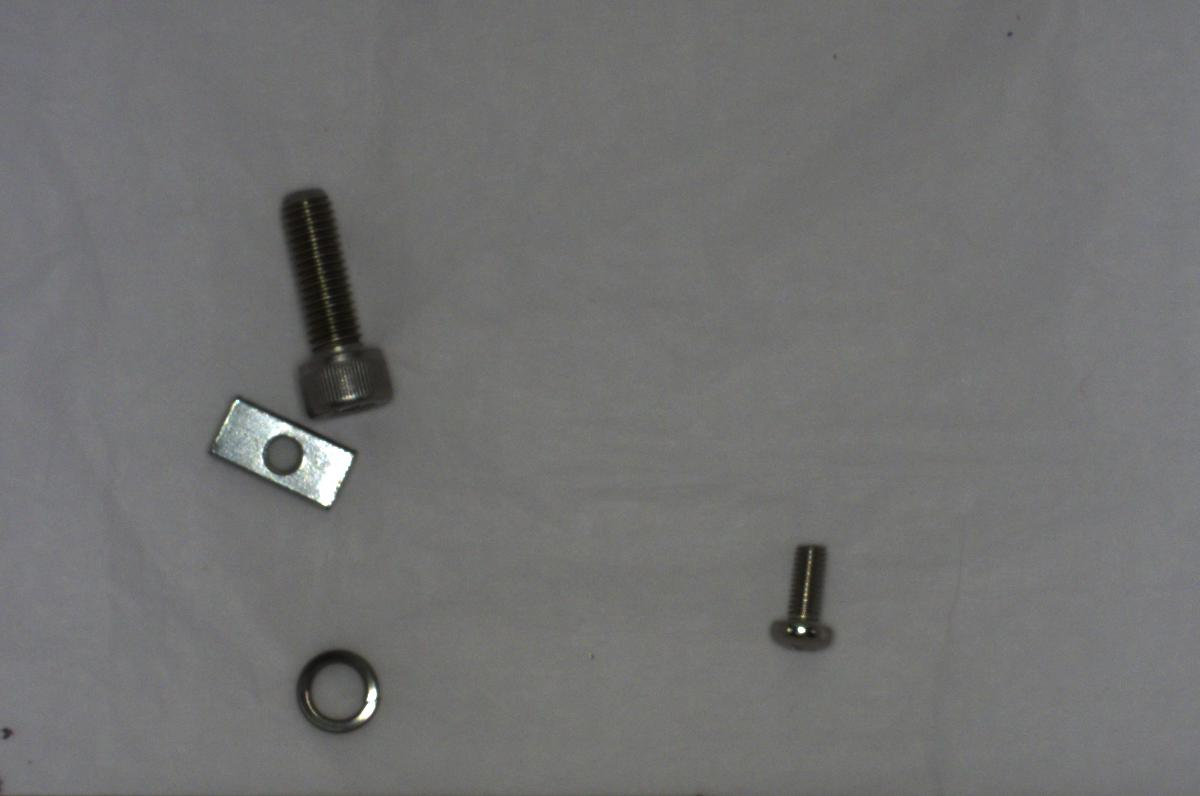Hexagon screw: (272, 181, 399, 426)
Rectangular nut: (195, 396, 360, 508)
Round head screw: (765, 530, 847, 658)
Spring washer: (285, 641, 388, 741)
